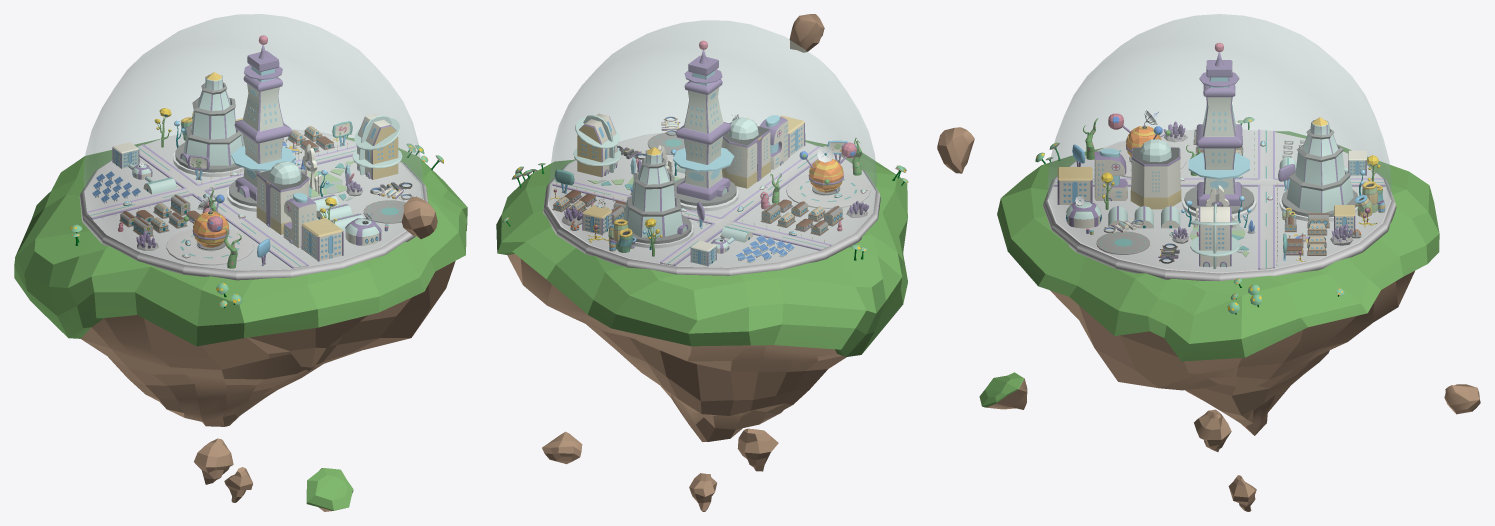
Rendered from Sci_Fi_Island.fbx.
3 renders of one model, left to right at view 1: azimuth 30°, elevation 25°; view 2: azimuth 150°, elevation 25°; view 3: azimuth 270°, elevation 25°, orthographic. The views are drawn at different scales.
Parts seen in each view (by area): view 1: Dome, Island, Floor, Skyskraper_2, Skyskraper, Building_2, Building, Driveway, Roundabout, Driveway_2, House_4, Solar_Station_2 (+13 smaller); view 2: Dome, Island, Floor, Skyskraper_2, Skyskraper, Building, Building_2, Driveway, Driveway_2, Roundabout, Planetarium, House_4 (+12 smaller); view 3: Dome, Island, Floor, Skyskraper_2, Skyskraper, Building, Building_2, Driveway_2, House_4, Hospital, House_3, Landing_Station (+9 smaller).
Boxes of the visible parts, bbox=[...] form: Dome: bbox=[83, 14, 423, 270]; Island: bbox=[14, 137, 467, 511]; Floor: bbox=[79, 129, 428, 280]; Skyskraper_2: bbox=[227, 35, 295, 211]; Skyskraper: bbox=[173, 72, 244, 176]; Building_2: bbox=[352, 114, 402, 179]; Building: bbox=[256, 161, 309, 234]; Driveway: bbox=[137, 144, 308, 268]; Roundabout: bbox=[166, 228, 253, 265]; Driveway_2: bbox=[87, 146, 356, 219]; House_4: bbox=[235, 118, 343, 261]; Solar_Station_2: bbox=[112, 142, 176, 194]; Dome: bbox=[548, 20, 876, 267]; Island: bbox=[496, 14, 907, 511]; Floor: bbox=[543, 131, 880, 275]; Skyskraper_2: bbox=[673, 40, 738, 211]; Skyskraper: bbox=[621, 147, 693, 248]; Building: bbox=[721, 117, 770, 188]; Building_2: bbox=[573, 113, 621, 177]; Driveway: bbox=[660, 146, 821, 265]; Driveway_2: bbox=[552, 180, 831, 250]; Roundabout: bbox=[786, 173, 870, 208]; Planetarium: bbox=[799, 142, 856, 195]; House_4: bbox=[582, 115, 805, 235]; Dome: bbox=[1047, 14, 1391, 272]; Island: bbox=[937, 127, 1480, 511]; Floor: bbox=[1043, 129, 1396, 281]; Skyskraper_2: bbox=[1182, 42, 1256, 218]; Skyskraper: bbox=[1279, 117, 1358, 221]; Building: bbox=[1130, 139, 1181, 209]; Building_2: bbox=[1190, 203, 1239, 268]; Driveway_2: bbox=[1258, 129, 1274, 269]; House_4: bbox=[1057, 167, 1355, 233]; Hospital: bbox=[1094, 148, 1127, 201]; House_3: bbox=[1108, 205, 1180, 228]; Landing_Station: bbox=[1096, 231, 1149, 254].
Size of the model in its own units: 8522 by 9942 by 9776.
